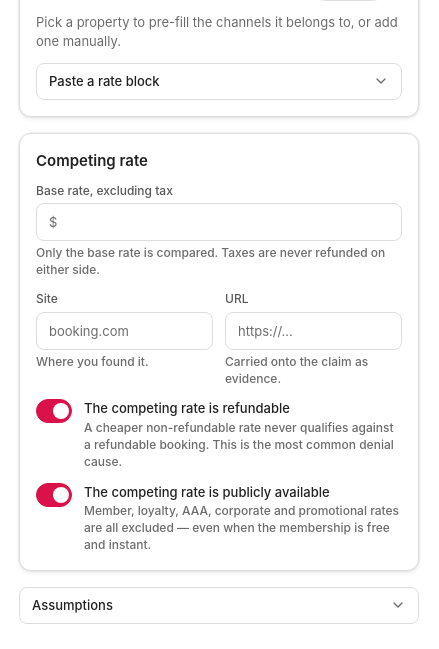
Scenario: CompareScreen — Defect C: SPA/RESORT realization default › starts at the ordinary 100% default with no property selected
The width and height of the screenshot is (439, 649).
(page scrolled)
Click the button "Assumptions" at coordinates (72, 605), box [20, 588, 418, 623]
(page scrolled)
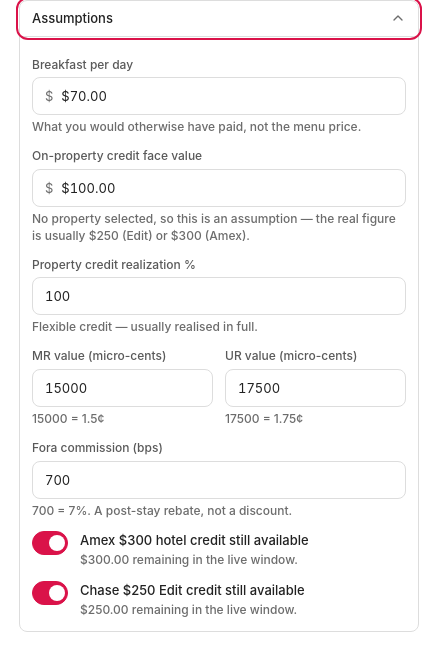
Expected: the field labelled "Property credit realization %" holds "100", [45, 278, 393, 314]
